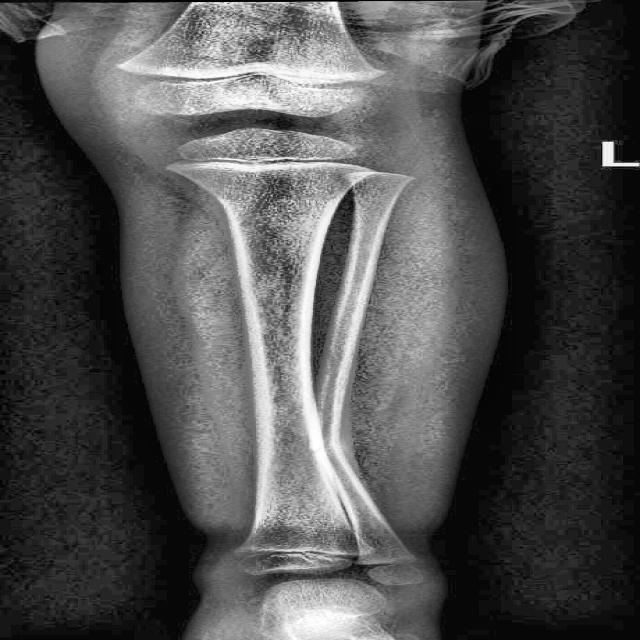line: (306, 444, 345, 456)
